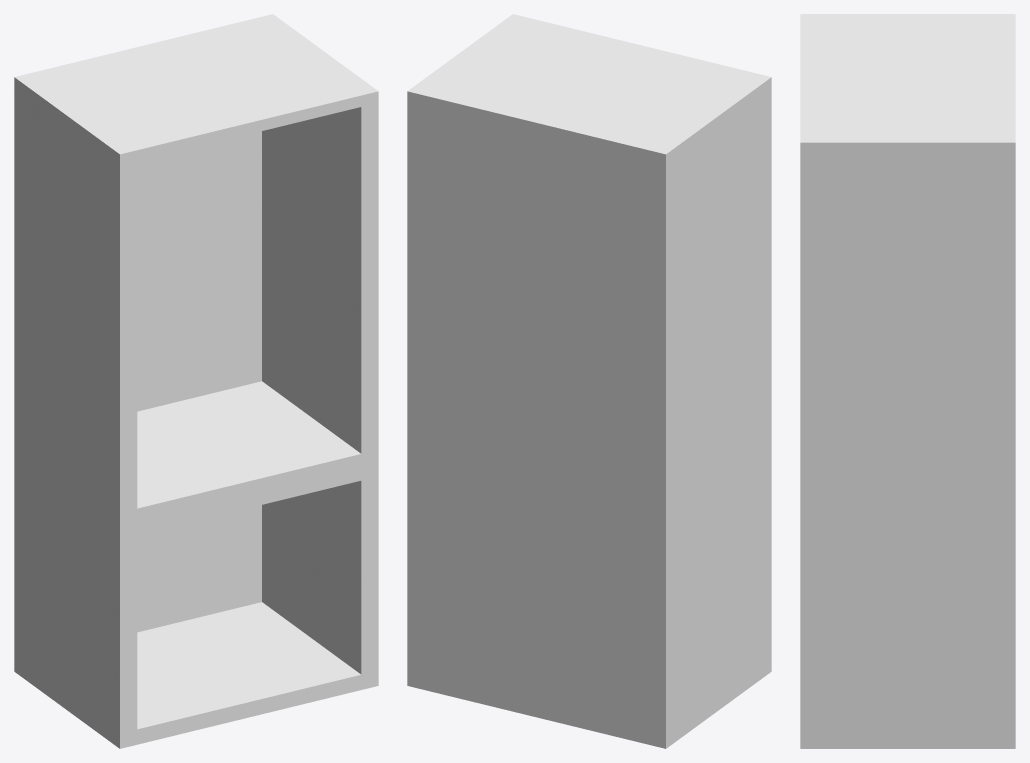
Rendered from Itr_Obj_Fridge2_Body_01.FBX.
The picture shows the model from 3 angles, left to right: view 1: azimuth 30°, elevation 25°; view 2: azimuth 150°, elevation 25°; view 3: azimuth 270°, elevation 25°; orthographic projection.
Parts seen in each view (by area): view 1: Itr_Obj_Fridge2_Body_01; view 2: Itr_Obj_Fridge2_Body_01; view 3: Itr_Obj_Fridge2_Body_01.
Part boxes in pixels (bbox=[...]): Itr_Obj_Fridge2_Body_01: bbox=[14, 14, 378, 748]; Itr_Obj_Fridge2_Body_01: bbox=[407, 14, 771, 748]; Itr_Obj_Fridge2_Body_01: bbox=[800, 14, 1015, 748].
Bounding box in the file's own units: 34.44 × 75.62 × 24.36.
